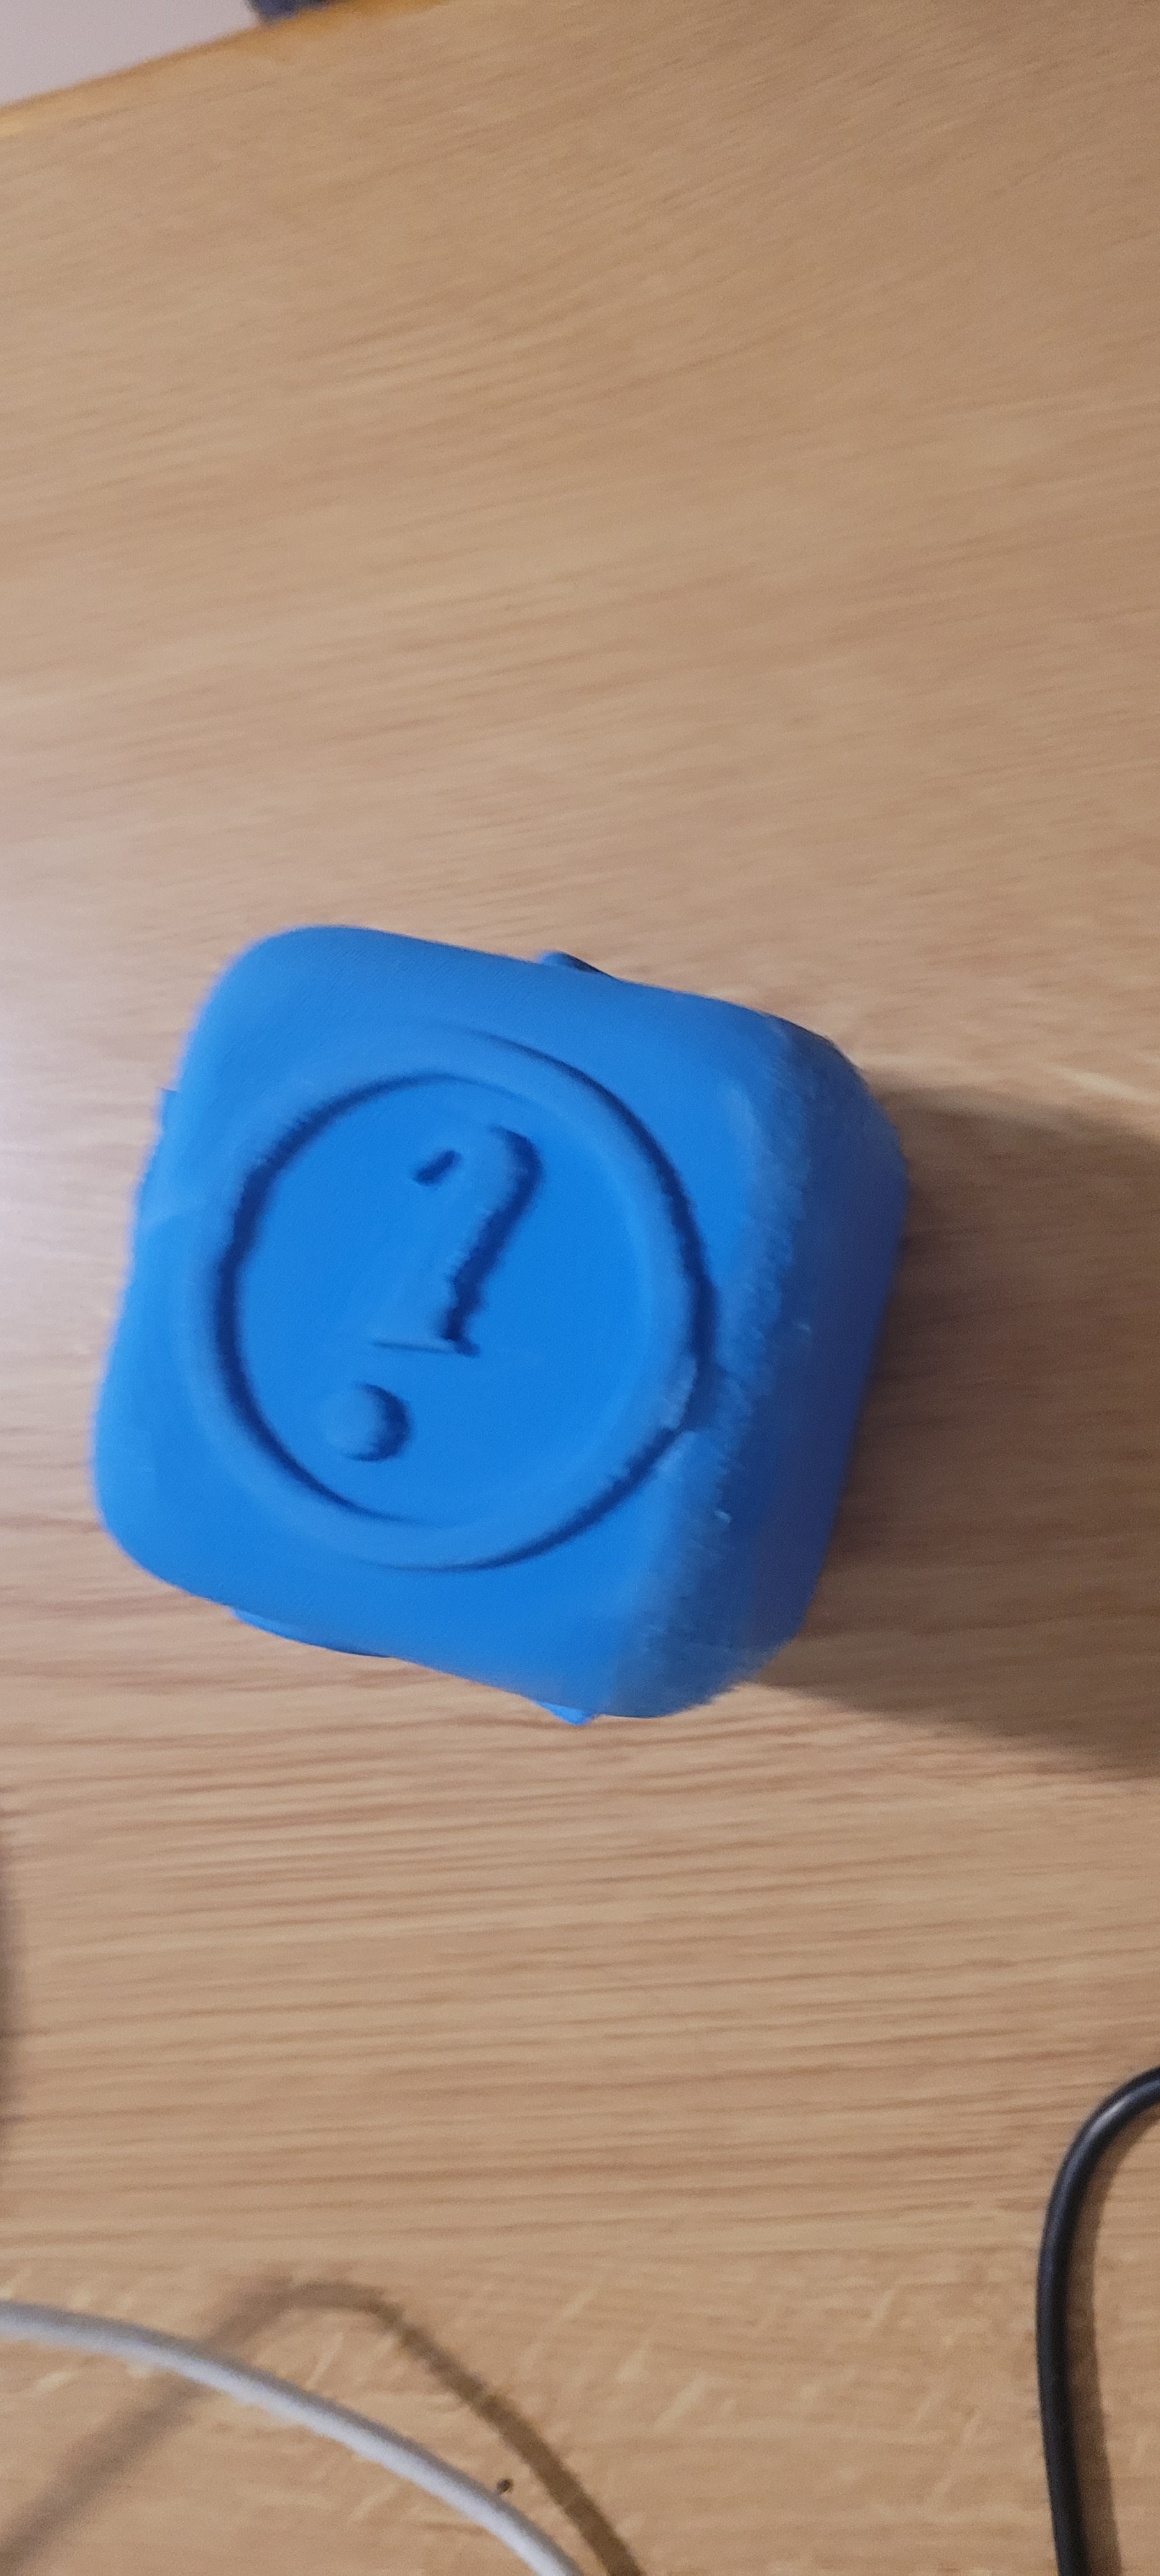Info: (184, 1027, 744, 1543)
